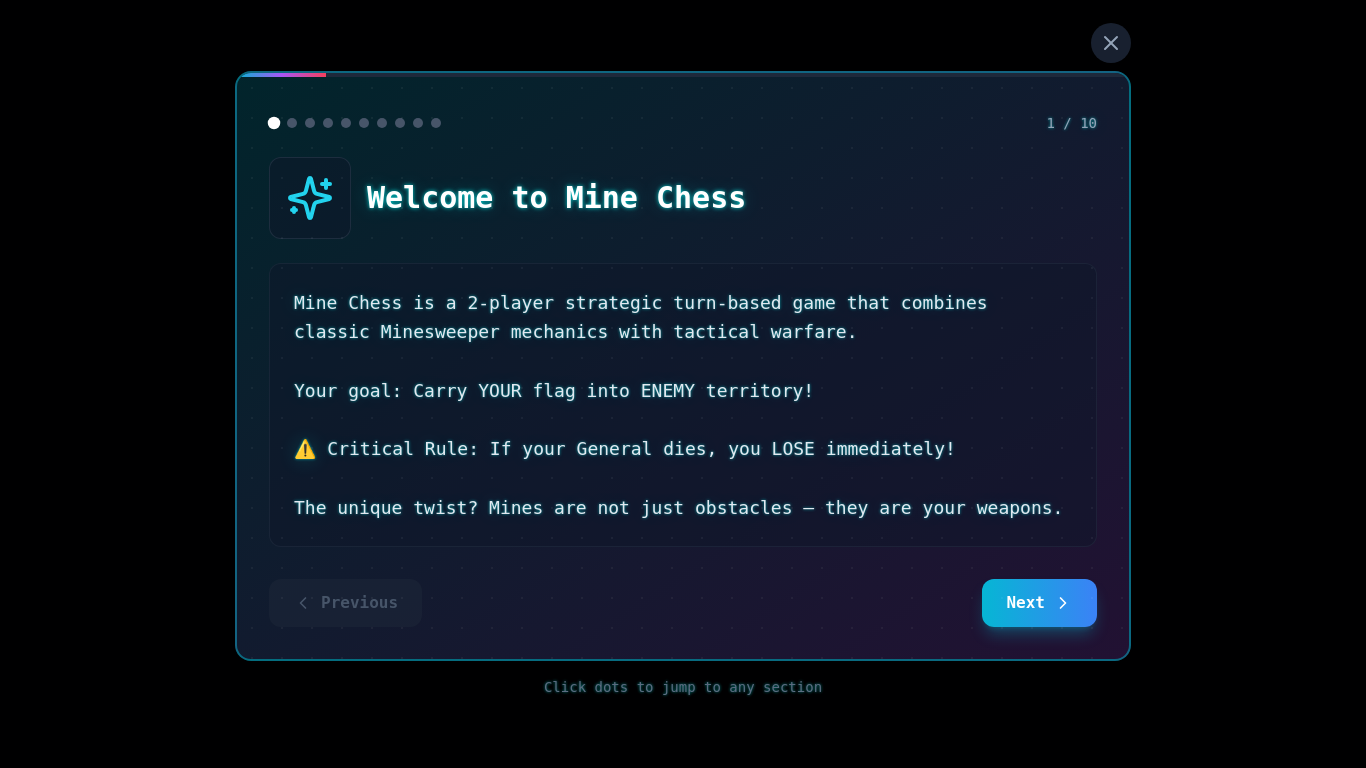
Tutorial › navigates to next step when Next button is clicked
Click the button "Next".
click(1040, 603)  # box [982,579,1097,627]
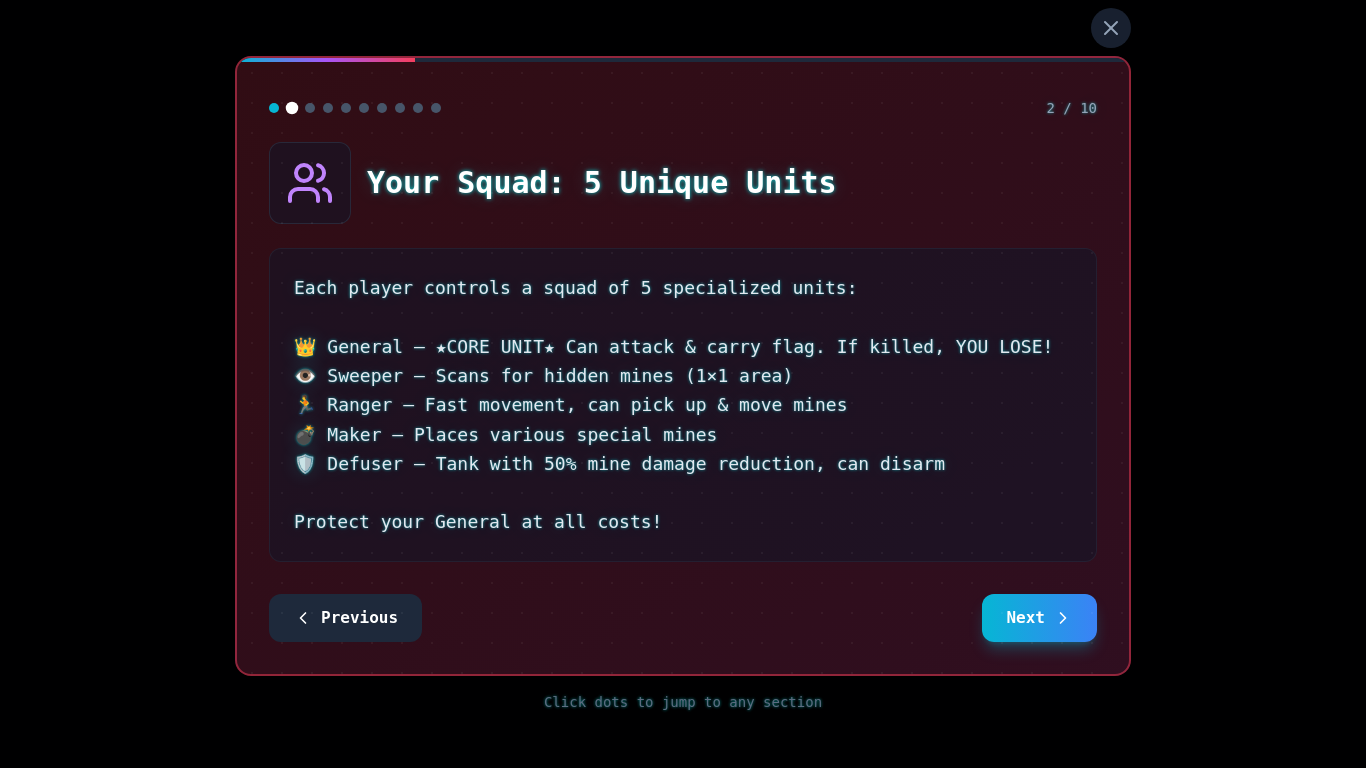
Expected: the heading "Your Squad: 5 Unique Units" is shown, [367,165,837,201]
Expected: the text "2 / 10" is shown, [1046,98,1097,118]
